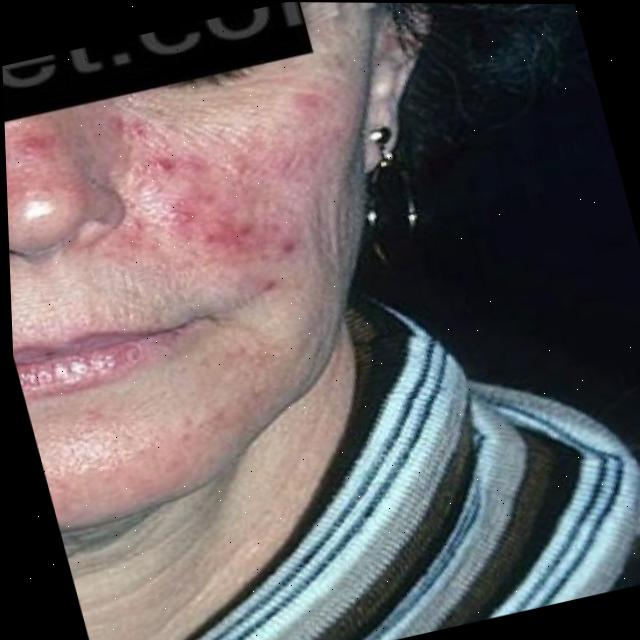Rosacea: (135, 99, 358, 295)
